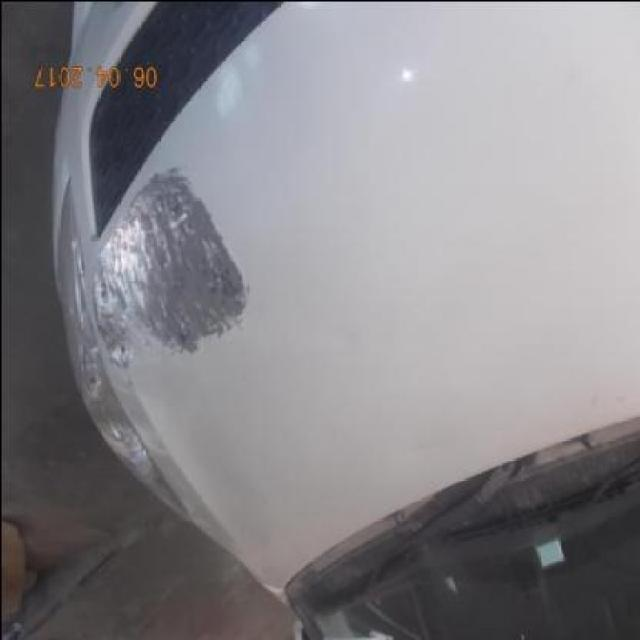damage: (87, 164, 249, 372)
